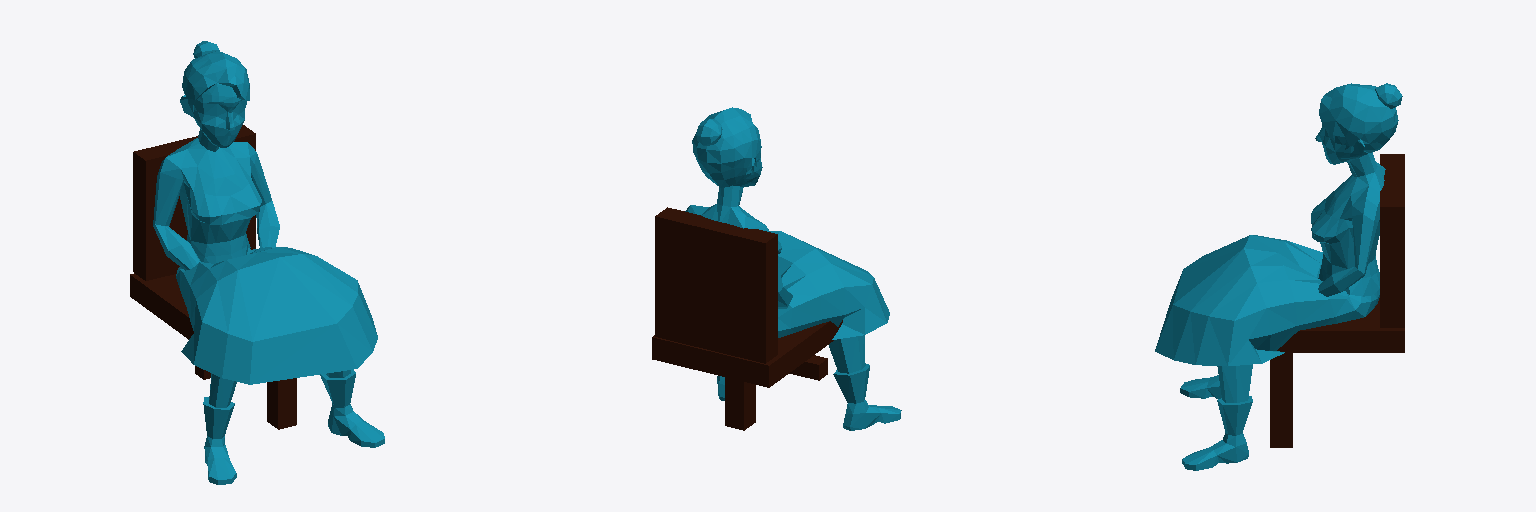
The model's file is sitting_pose.obj.
3 renders of one model, left to right at view 1: azimuth 30°, elevation 25°; view 2: azimuth 150°, elevation 25°; view 3: azimuth 270°, elevation 25°, orthographic.
Parts seen in each view (by area): view 1: Box019; view 2: Box019; view 3: Box019.
Part boxes in pixels (left/top/right/bottom): Box019: left=130, top=41, right=384, bottom=484; Box019: left=652, top=107, right=901, bottom=430; Box019: left=1155, top=83, right=1404, bottom=470.
Size of the model in its own units: 29.51 by 54.12 by 35.21.